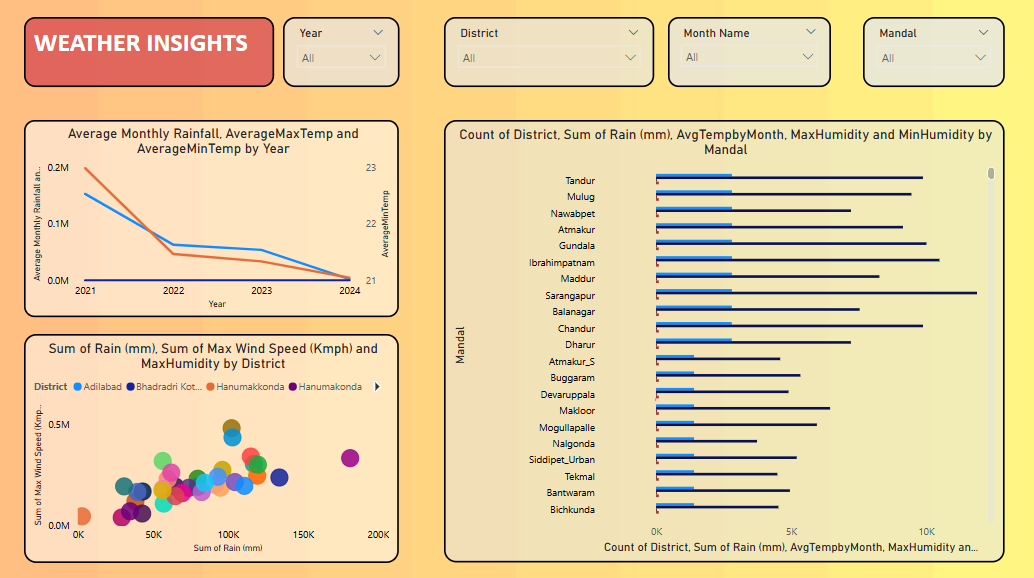

This screenshot's page, from the dashboard's own definition file:
{"tool":"powerbi","page":{"name":"Weather Insights ","canvas":[1280,720],"ordinal":4},"visuals":[{"type":"clusteredBarChart","fields":{"Y":["CountNonNull(Weather_Data.District)","Sum(Weather_Data.Rain (mm))","Weather_Data.AvgTempbyMonth","Weather_Data.MaxHumidity","Weather_Data.MinHumidity"],"Category":["Weather_Data.Mandal"]},"box":[552.4,154.4,687.5,543.5],"z":0},{"type":"scatterChart","fields":{"X":["Sum(Weather_Data.Rain (mm))"],"Y":["Sum(Weather_Data.Max Wind Speed (Kmph))"],"Size":["Weather_Data.MaxHumidity"],"Series":["Weather_Data.District"]},"box":[37.1,417.3,460.3,280.6],"z":1000},{"type":"lineChart","fields":{"Category":["Weather_Data.Year"],"Y":["Weather_Data.Average Monthly Rainfall","Weather_Data.AverageMaxTemp"],"Y2":["Weather_Data.AverageMinTemp"]},"box":[37.1,154.4,460.3,242],"z":2000},{"type":"slicer","fields":{"Values":["Weather_Data.Month Name"]},"box":[827.1,28.2,200.5,86.1],"z":3000},{"type":"slicer","fields":{"Values":["Weather_Data.District"]},"box":[552.4,28.2,258.4,86.1],"z":4000},{"type":"slicer","fields":{"Values":["Weather_Data.Year"]},"box":[354.9,28.2,142.6,86.1],"z":5000},{"type":"textbox","box":[37.1,28.2,307.4,86.1],"z":6000},{"type":"slicer","fields":{"Values":["Weather_Data.Mandal"]},"box":[1066.2,28.2,173.7,86.1],"z":7000}]}

Visuals, with their boxes in screenshot pixels (x1, y1, x2, y2), scaled from the page's 1280x720 canvas onto the 1034x578 screenshot:
clusteredBarChart - CountNonNull(Weather_Data.District) x Sum(Weather_Data.Rain (mm)): {"left": 446, "top": 124, "right": 1002, "bottom": 560}
scatterChart - Sum(Weather_Data.Rain (mm)) x Sum(Weather_Data.Max Wind Speed (Kmph)): {"left": 30, "top": 335, "right": 402, "bottom": 560}
lineChart - Weather_Data.Year x Weather_Data.Average Monthly Rainfall: {"left": 30, "top": 124, "right": 402, "bottom": 318}
slicer - Weather_Data.Month Name: {"left": 668, "top": 23, "right": 830, "bottom": 92}
slicer - Weather_Data.District: {"left": 446, "top": 23, "right": 655, "bottom": 92}
slicer - Weather_Data.Year: {"left": 287, "top": 23, "right": 402, "bottom": 92}
textbox: {"left": 30, "top": 23, "right": 278, "bottom": 92}
slicer - Weather_Data.Mandal: {"left": 861, "top": 23, "right": 1002, "bottom": 92}
